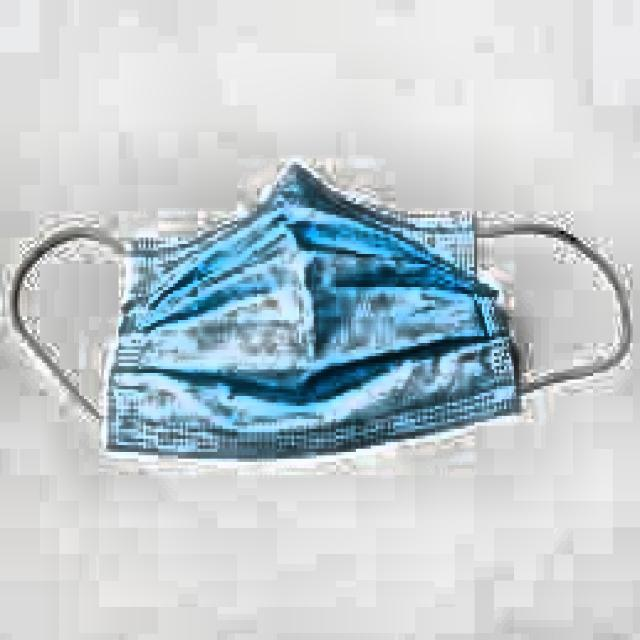trash: (109, 165, 524, 462)
